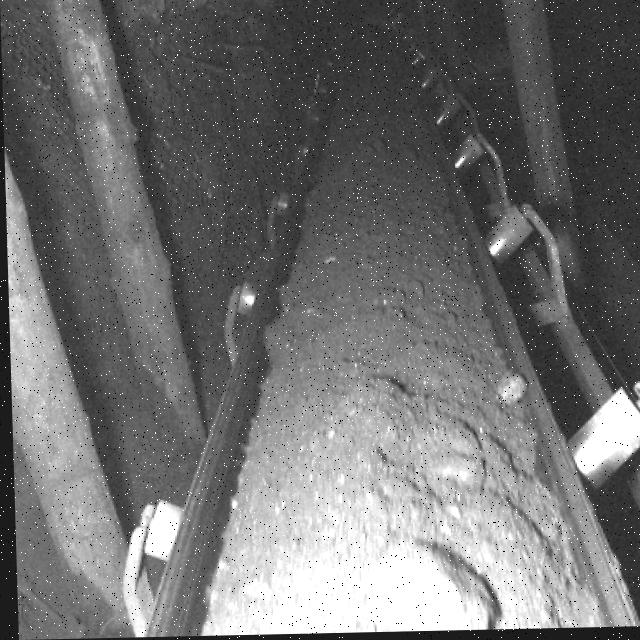large_sized_coal: (359, 539, 496, 634), (495, 371, 525, 409)
